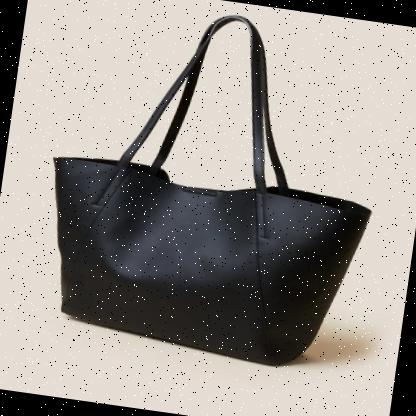bag: (25, 0, 405, 385)
